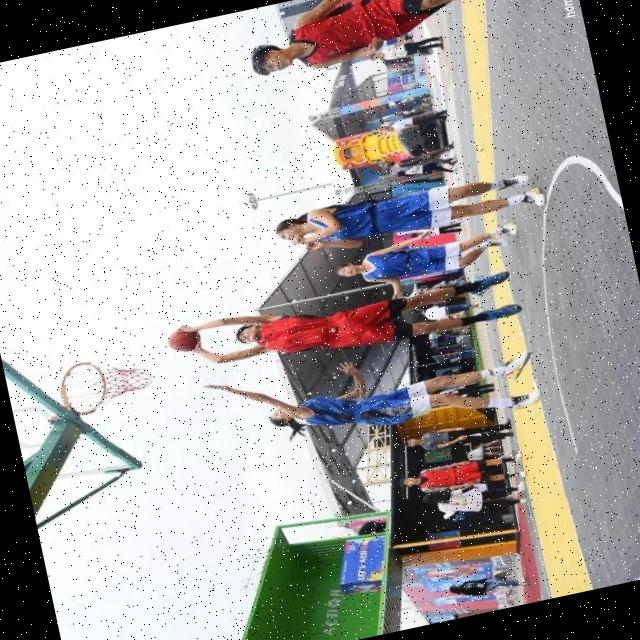ball: (166, 327, 200, 352)
hoop: (54, 349, 115, 422)
